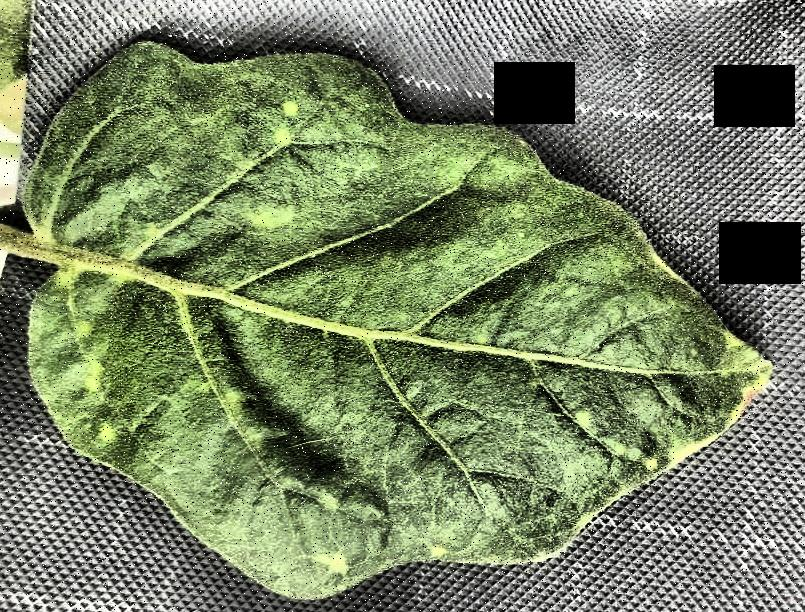HEALTHY: (0, 1, 805, 612)
